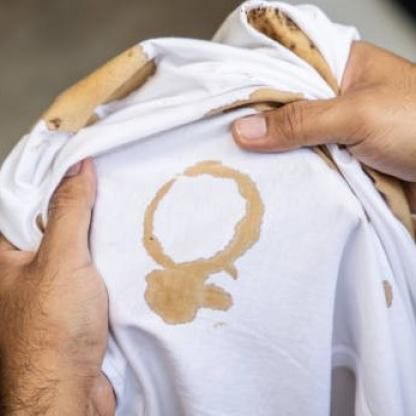coffee: (144, 261, 216, 323), (240, 180, 263, 243), (142, 229, 167, 262), (218, 246, 237, 271), (196, 166, 240, 176)
